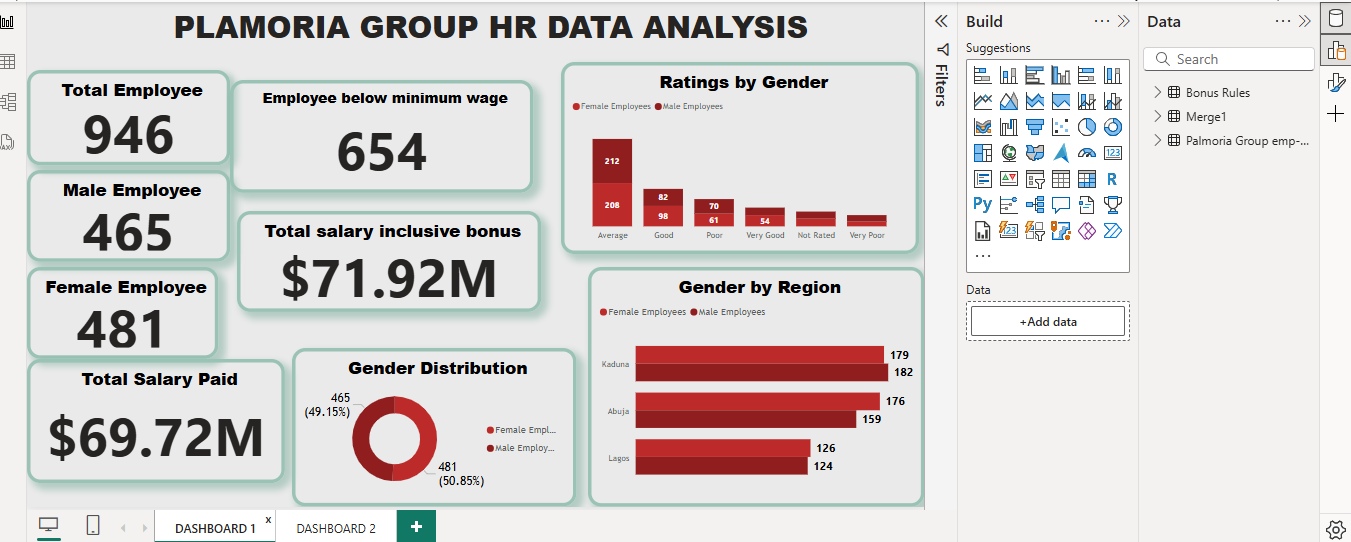

What the dashboard file says about the page in this screenshot:
{"tool":"powerbi","page":{"name":"DASHBOARD 1","canvas":[1280,720],"ordinal":0},"visuals":[{"type":"card","title":"Total Employee","fields":{"Values":["Palmoria Group emp-data (1).Total Employee"]},"box":[0,96.5,289.6,135.9],"z":0},{"type":"card","title":"Male Employee","fields":{"Values":["Palmoria Group emp-data (1).Male Employees"]},"box":[0,239.6,289.6,130.5],"z":1000},{"type":"card","title":"Female Employee","fields":{"Values":["Palmoria Group emp-data (1).Female Employees"]},"box":[0,378.1,272.6,131.3],"z":2000},{"type":"card","title":"Total Salary Paid","fields":{"Values":["Sum(Palmoria Group emp-data (1).Salary)"]},"box":[0,509.5,368.3,177],"z":3000},{"type":"card","title":"Employee below minimum  wage","fields":{"Values":["Palmoria Group emp-data (1).Employees Below Minimum Salary"]},"box":[289.6,110.8,432.6,160.9],"z":4000},{"type":"donutChart","title":"Gender Distribution","fields":{"Y":["Palmoria Group emp-data (1).Female Employees","Palmoria Group emp-data (1).Male Employees"]},"box":[378,494,406,226],"z":5000},{"type":"clusteredBarChart","title":"Gender by Region","fields":{"Category":["Palmoria Group emp-data (1).Location"],"Y":["Palmoria Group emp-data (1).Female Employees","Palmoria Group emp-data (1).Male Employees"]},"box":[800,378,480,342],"z":6000},{"type":"lineStackedColumnComboChart","title":"Ratings by Gender","fields":{"Category":["Palmoria Group emp-data (1).Rating"],"Y":["Palmoria Group emp-data (1).Female Employees","Palmoria Group emp-data (1).Male Employees"]},"box":[761.6,85.8,511.3,273.5],"z":7000},{"type":"textbox","box":[144,0,1064,84],"z":8000},{"type":"card","title":"Total salary inclusive bonus","fields":{"Values":["Sum(Merge1.Total Salary inclusive of bonus)"]},"box":[300,298,434,144],"z":9000}]}

Visuals, with their boxes on the page's 1280x720 design canvas (x1, y1, x2, y2). These are canvas units, not pixel positions in the 1351x542 screenshot, which may show the page scaled, cropped or inside an application window:
"Total Employee" card: [left=0, top=96, right=290, bottom=232]
"Male Employee" card: [left=0, top=240, right=290, bottom=370]
"Female Employee" card: [left=0, top=378, right=273, bottom=509]
"Total Salary Paid" card: [left=0, top=510, right=368, bottom=686]
"Employee below minimum  wage" card: [left=290, top=111, right=722, bottom=272]
"Gender Distribution" donutChart: [left=378, top=494, right=784, bottom=720]
"Gender by Region" clusteredBarChart: [left=800, top=378, right=1280, bottom=720]
"Ratings by Gender" lineStackedColumnComboChart: [left=762, top=86, right=1273, bottom=359]
textbox: [left=144, top=0, right=1208, bottom=84]
"Total salary inclusive bonus" card: [left=300, top=298, right=734, bottom=442]
